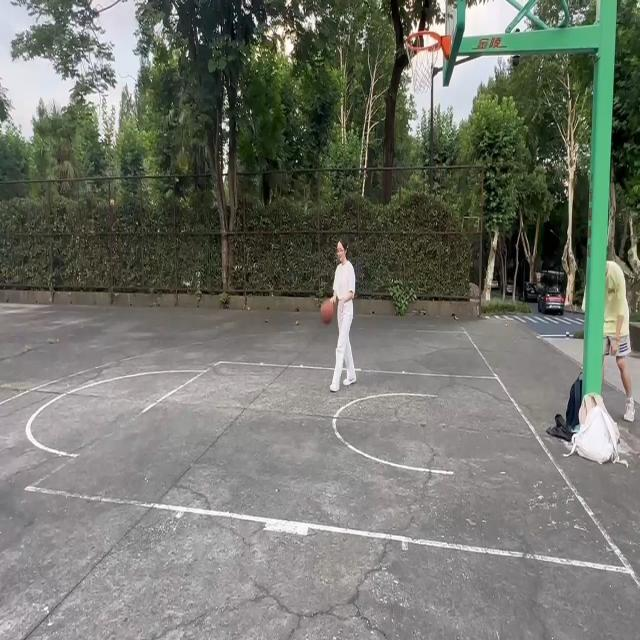basketball: (406, 31, 442, 92)
rim: (320, 300, 334, 324)
